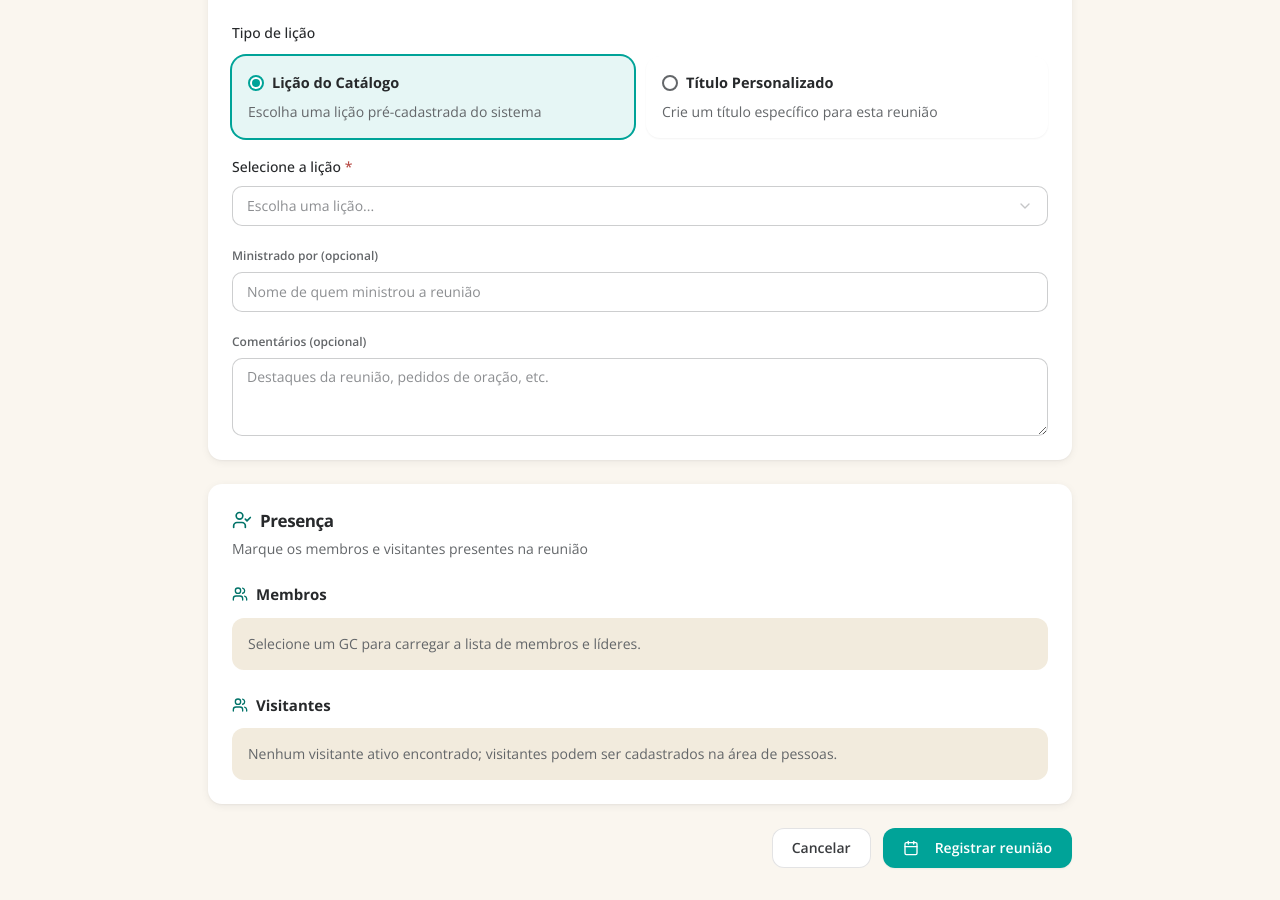
Test case: MeetingForm › mostra erros de validação quando campos obrigatórios não são preenchidos
The width and height of the screenshot is (1280, 900).
(page scrolled)
Click the button "Registrar reunião": (977, 848) [883, 828, 1072, 868]
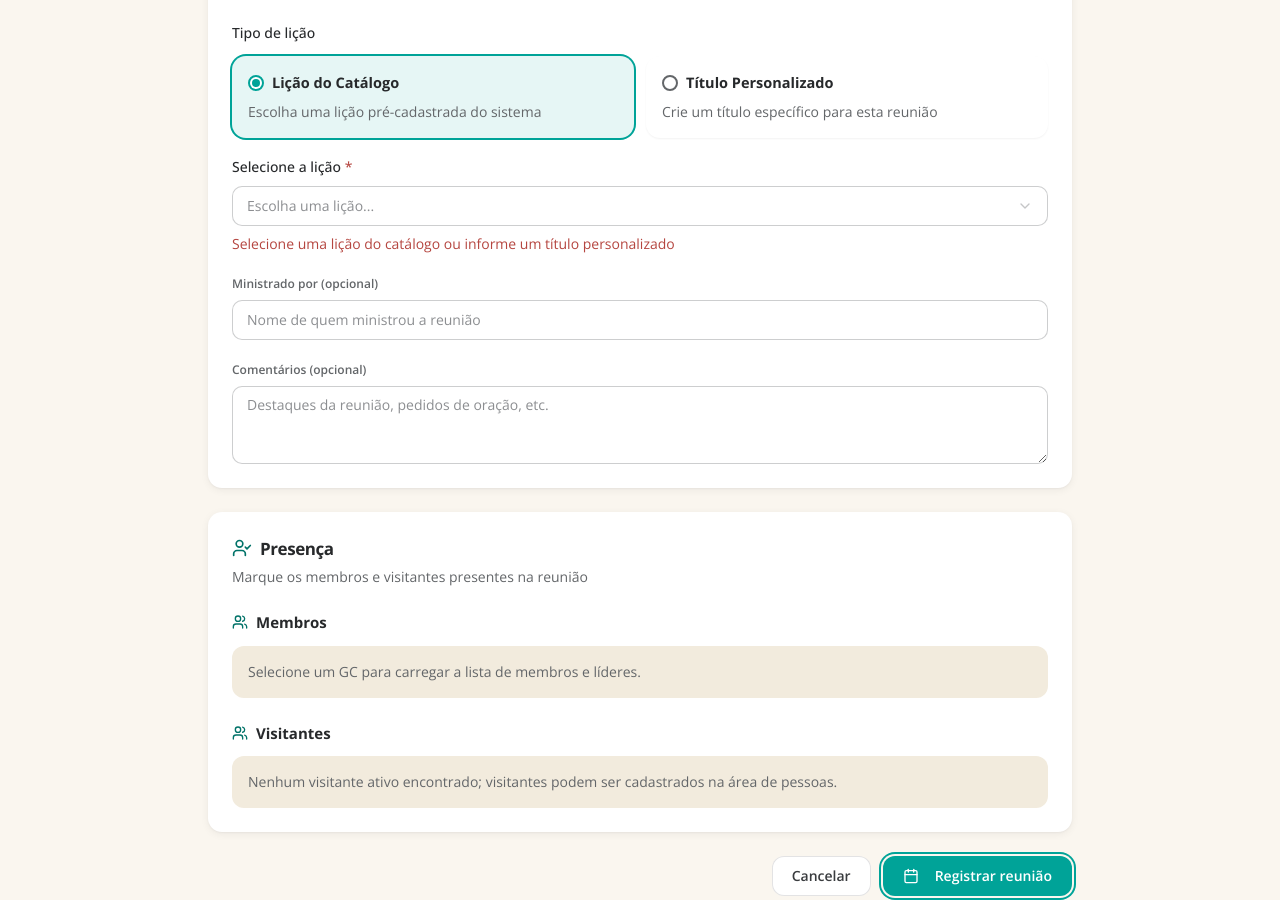
Expected: the text "Selecione um GC para carregar a lista de membros e líderes." is shown, [248, 662, 641, 681]
Result: the text "Selecione uma lição do catálogo ou informe um título personalizado" is shown at [232, 234, 675, 253]
